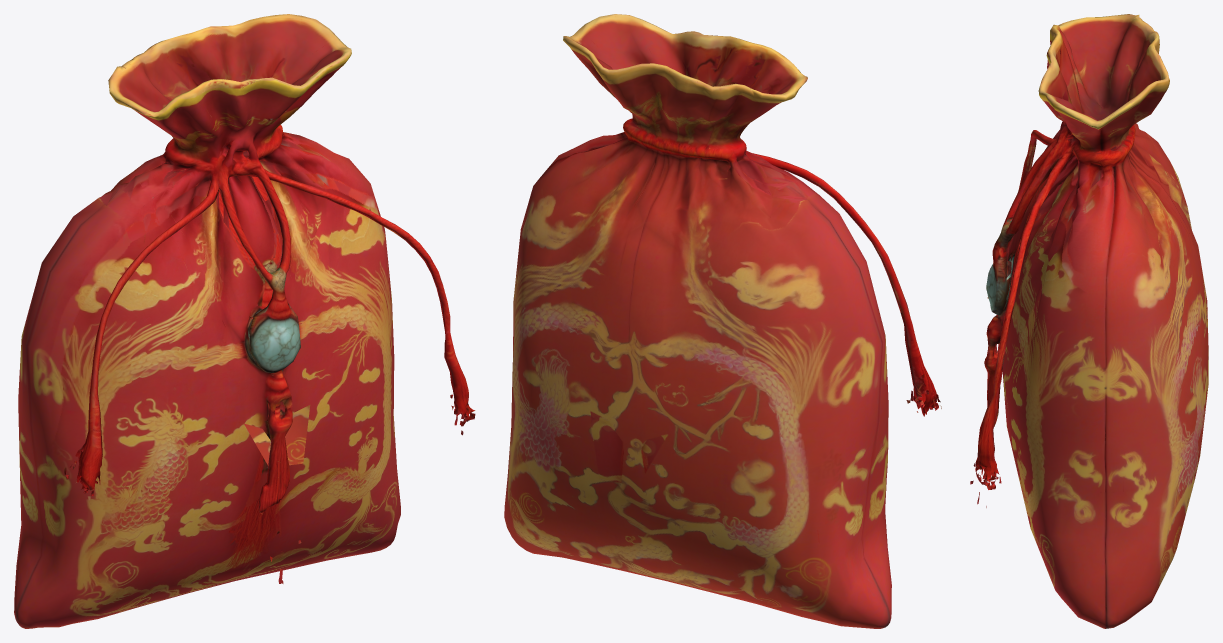
File: 중국_판타지_주괴_0728141137_texture.fbx
The picture shows the model from 3 angles, left to right: view 1: azimuth 30°, elevation 25°; view 2: azimuth 150°, elevation 25°; view 3: azimuth 270°, elevation 25°; orthographic projection. The views are drawn at different scales.
Visible parts, largest first — view 1: Mesh1.0; view 2: Mesh1.0; view 3: Mesh1.0.
Part boxes in pixels (x1,y1,x2,y2): Mesh1.0: (14, 14, 475, 628); Mesh1.0: (504, 14, 941, 628); Mesh1.0: (970, 14, 1208, 628).
Bounding box in the file's own units: 156 × 200 × 84.95.
Materials: 1 (1 with a texture image).
